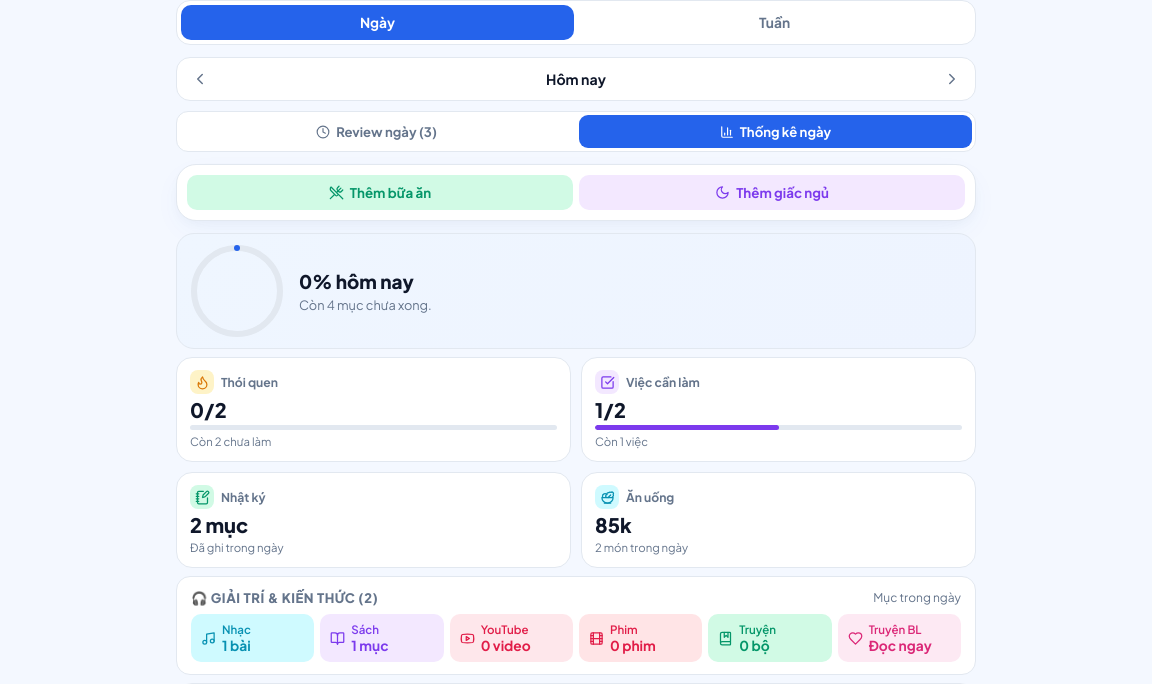
Scenario: HomePage › đổi sang ngày khác và quay lại hôm nay được
Step 1. Click the tab "Thống kê ngày" → (776, 132), box [579,115,972,148]
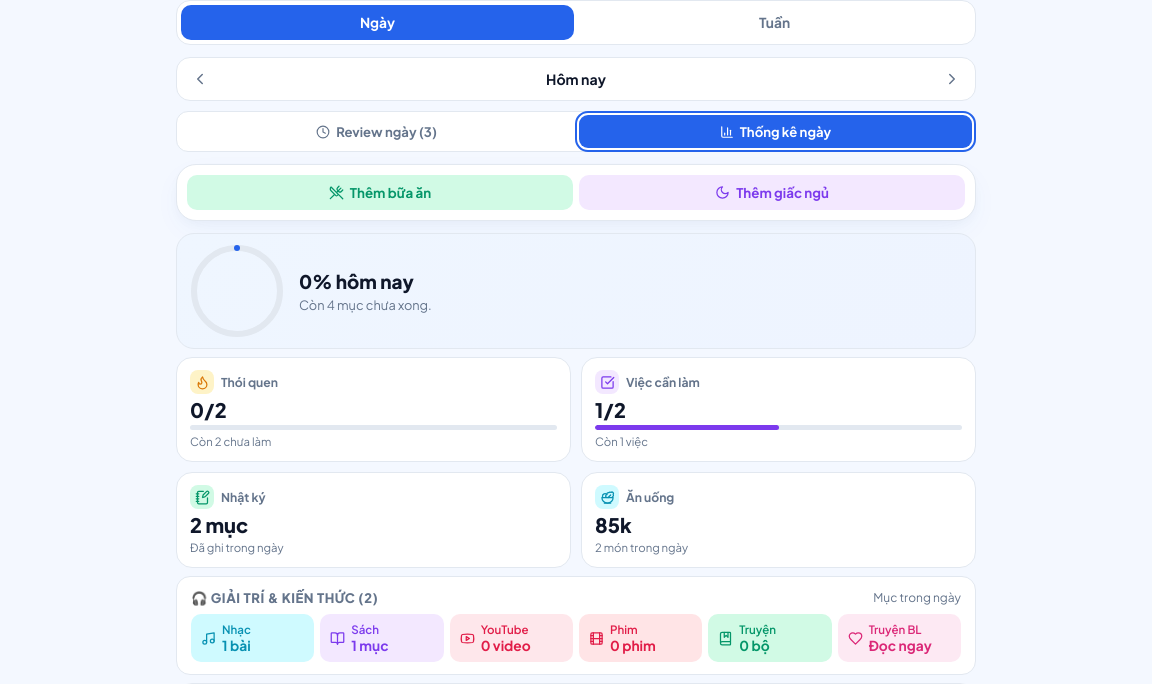
Expected: the text "Hôm nay" is shown, [546,70,606,88]
Step 2. Click the button named "Ngày trước" → (200, 79), box [183,62,217,96]
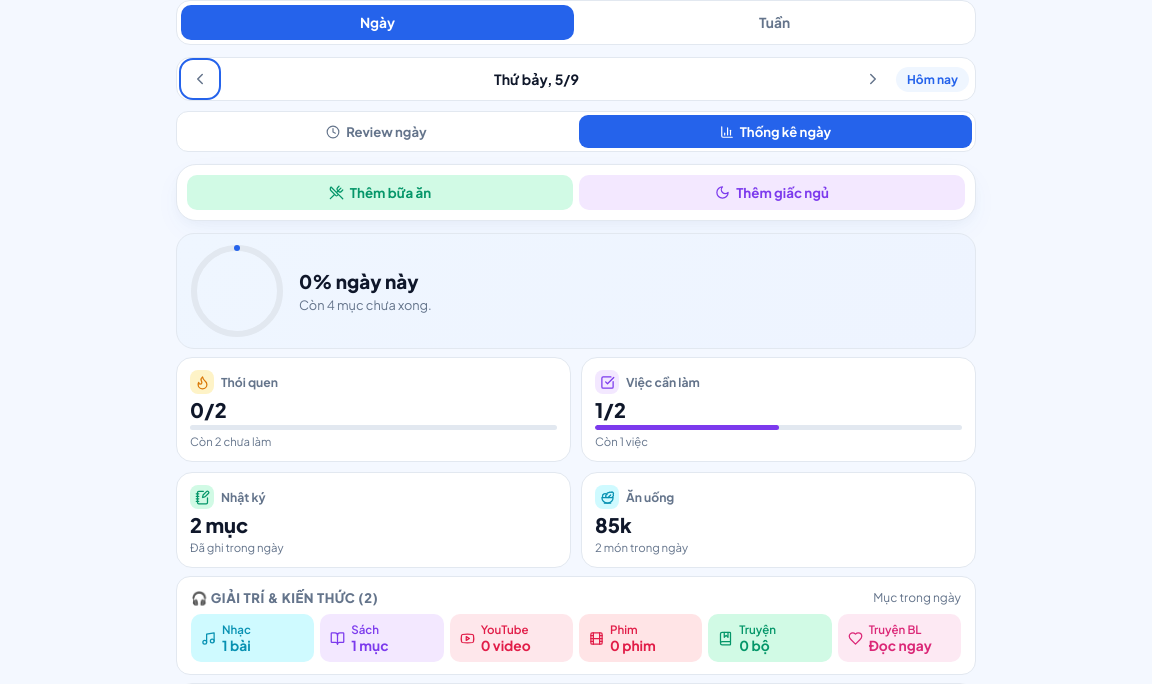
Expected: the heading "% hôm nay" is gone
Step 3. Click the button "Hôm nay" → (932, 79), box [896,66,969,92]
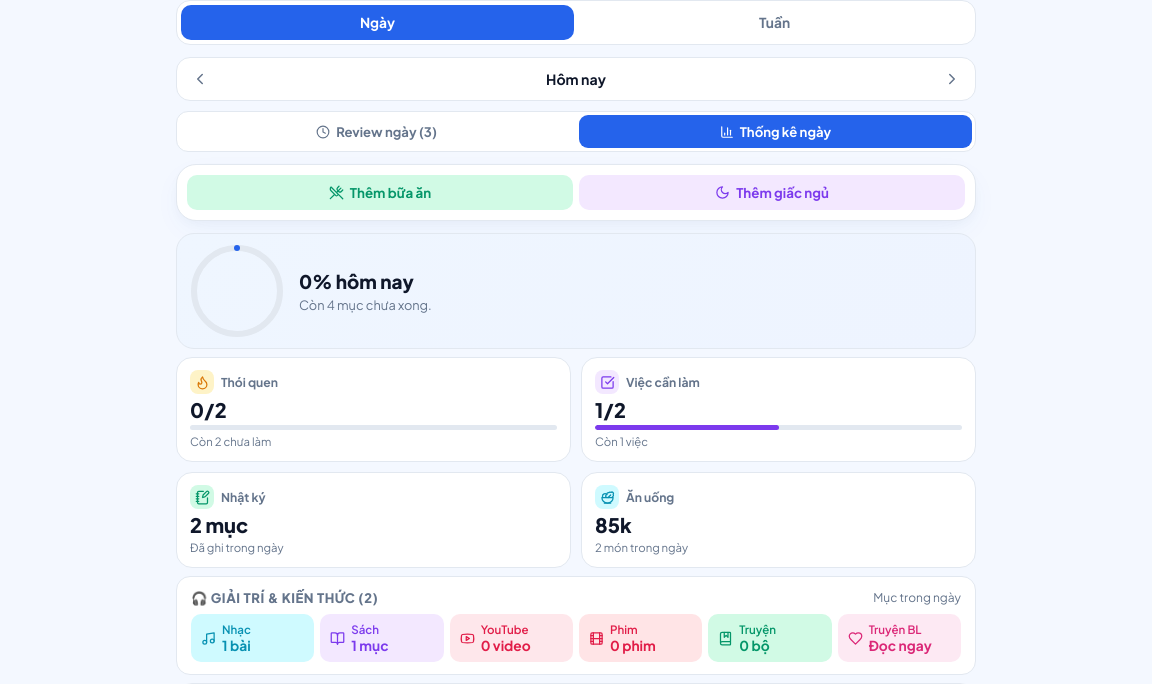
Expected: the heading "0% hôm nay" is shown, [299,269,432,293]
